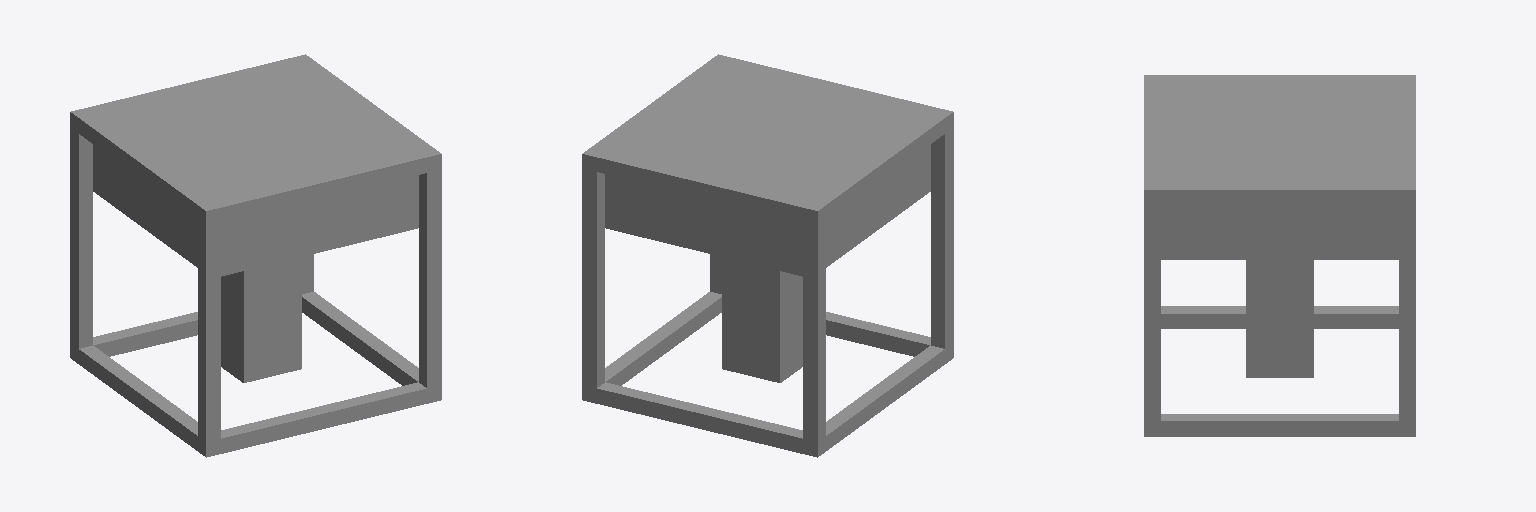
The model's file is fluiddrill.obj.
3 views of the same model, side by side, from view 1: azimuth 30°, elevation 25°; view 2: azimuth 150°, elevation 25°; view 3: azimuth 270°, elevation 25° (orthographic).
Parts seen in each view (by area): view 1: Cube; view 2: Cube; view 3: Cube.
Boxes of the visible parts, <box> form: Cube: <box>70,54,441,457</box>; Cube: <box>582,54,953,457</box>; Cube: <box>1144,75,1415,436</box>.
Bounding box in the file's own units: 1 × 1 × 1.